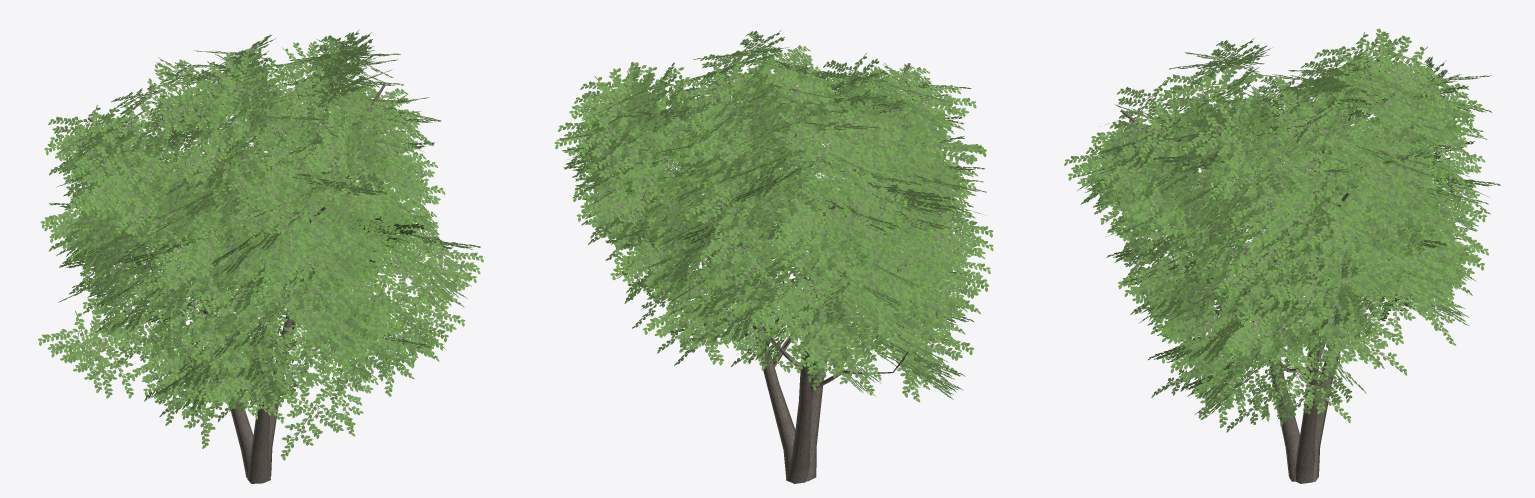
File: Aralia_Elata_Spring_Adult.glb
3 renders of one model, left to right at view 1: azimuth 30°, elevation 25°; view 2: azimuth 150°, elevation 25°; view 3: azimuth 270°, elevation 25°, orthographic. The views are drawn at different scales.
Visible parts, largest first — view 1: Aralia_Elata_Spring_Adult__LOD3; view 2: Aralia_Elata_Spring_Adult__LOD3; view 3: Aralia_Elata_Spring_Adult__LOD3.
Boxes of the visible parts, <box> form: Aralia_Elata_Spring_Adult__LOD3: <box>38,30,483,483</box>; Aralia_Elata_Spring_Adult__LOD3: <box>554,30,993,483</box>; Aralia_Elata_Spring_Adult__LOD3: <box>1064,28,1500,483</box>.
Size of the model in its own units: 7.43 by 7 by 6.9.
2 materials, 2 textured.
